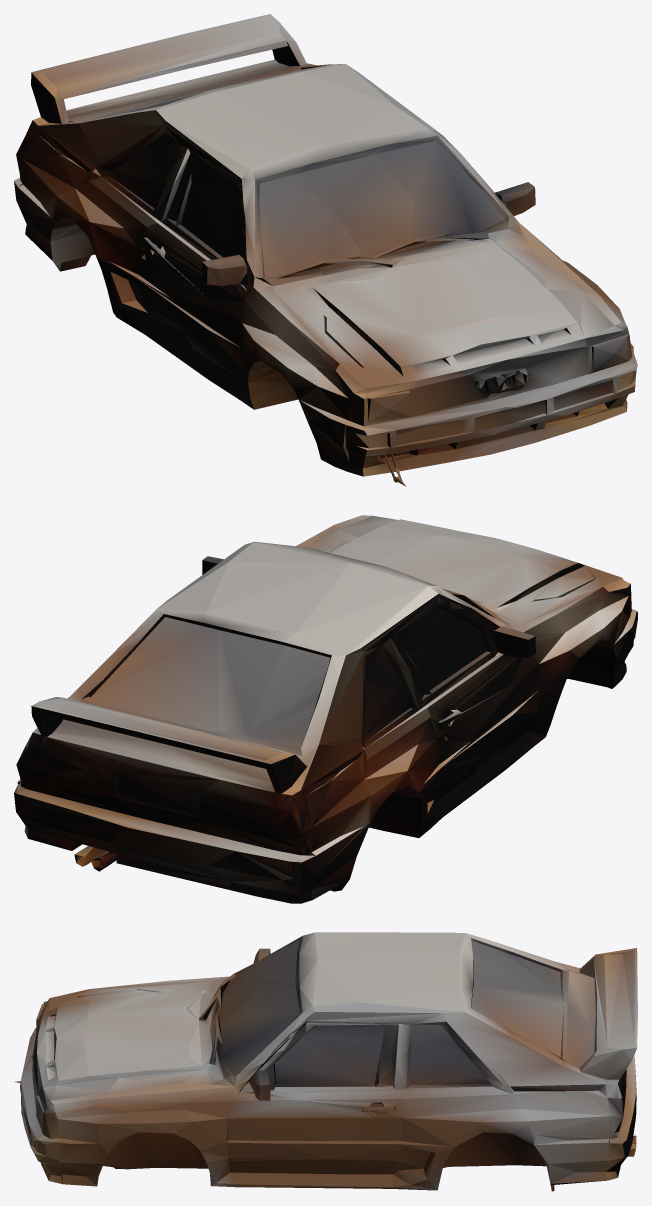
File: audi_quattro_s1.glb
3 views of the same model, one above another, from view 1: azimuth 30°, elevation 25°; view 2: azimuth 150°, elevation 25°; view 3: azimuth 270°, elevation 25° (orthographic). The views are drawn at different scales.
Parts seen in each view (by area): view 1: Wreck_audi_quattro_s1; view 2: Wreck_audi_quattro_s1; view 3: Wreck_audi_quattro_s1.
Boxes of the visible parts, x1,y1,x2,y2 form: Wreck_audi_quattro_s1: (14, 14, 637, 486); Wreck_audi_quattro_s1: (14, 515, 637, 903); Wreck_audi_quattro_s1: (14, 932, 637, 1191).
Size of the model in its own units: 2.17 by 1.27 by 4.16.
